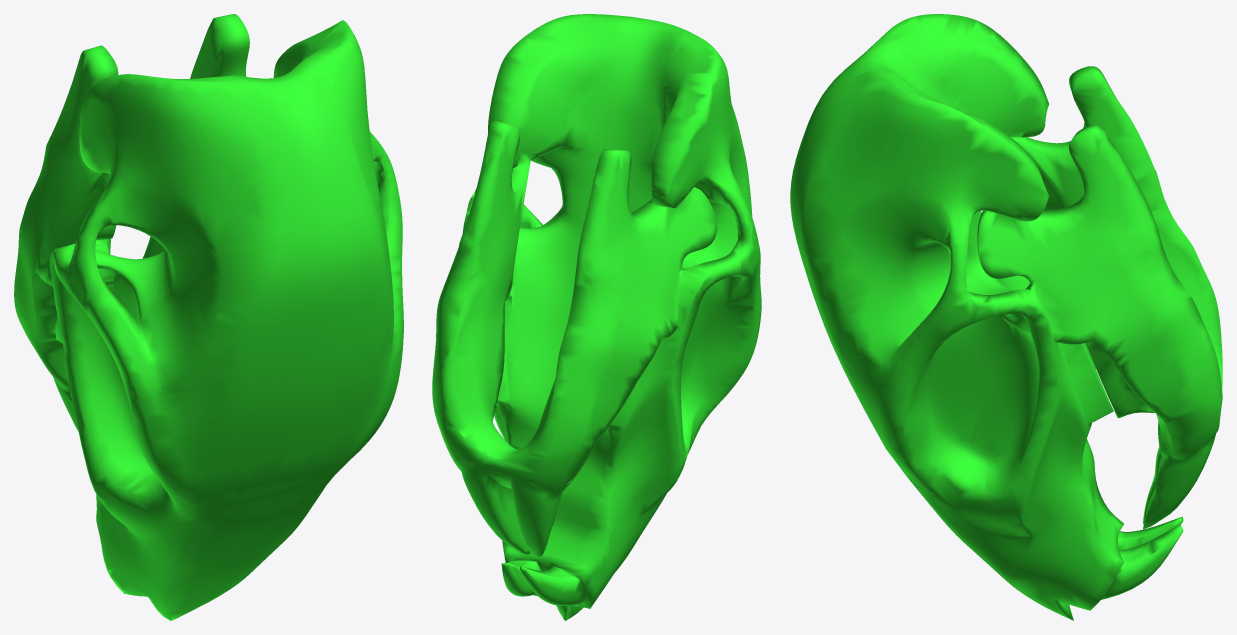
File: Ratskull.obj
3 views of the same model, side by side, from view 1: azimuth 30°, elevation 25°; view 2: azimuth 150°, elevation 25°; view 3: azimuth 270°, elevation 25° (orthographic). The views are drawn at different scales.
Visible parts, largest first — view 1: Ratskull; view 2: Ratskull; view 3: Ratskull.
Part boxes in pixels (x1,y1,x2,y2): Ratskull: (14, 14, 403, 620); Ratskull: (432, 14, 761, 620); Ratskull: (790, 14, 1222, 620).
Bounding box in the file's own units: 0.5335 × 1 × 0.6946.
